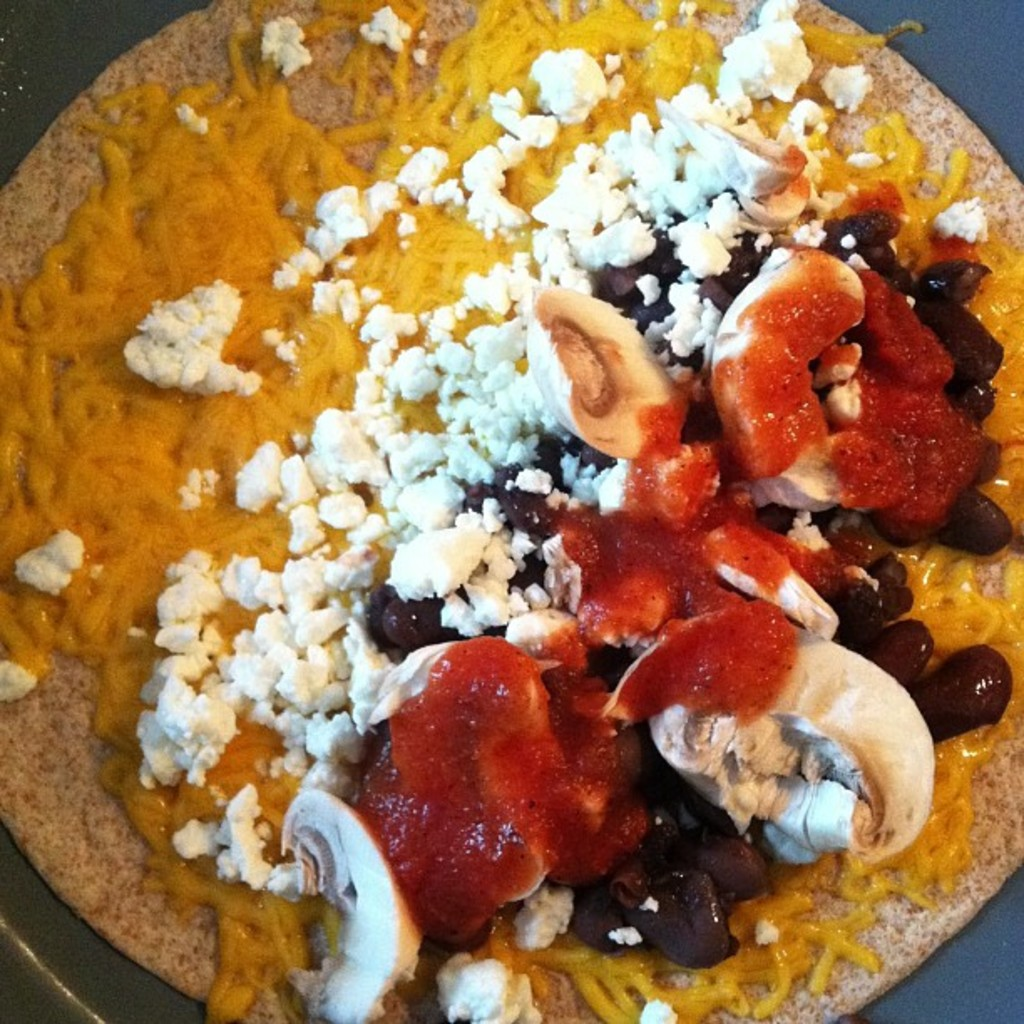Pizza: (3, 83, 998, 1008)
